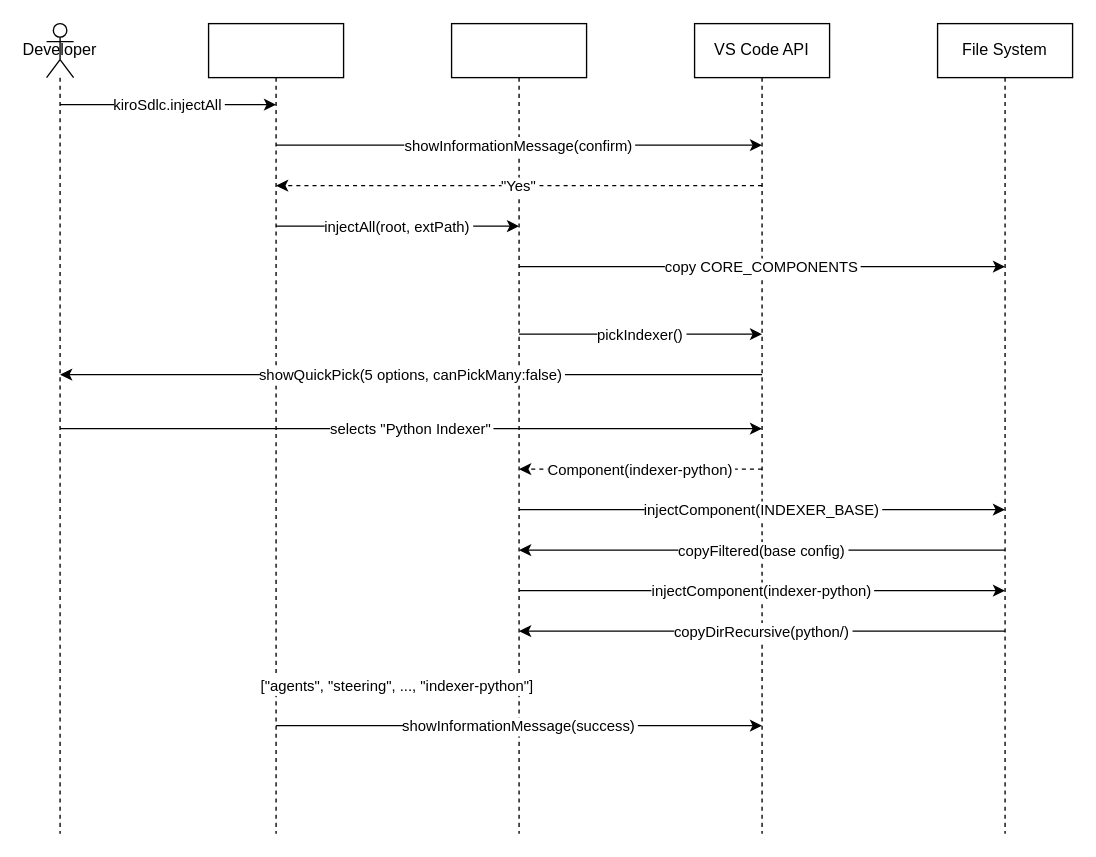
Image size: 1096x857. Some labels were removed from this diagram. The shapes that lost their labels are listed below. From the top down, each one's box as (x1, y1, x2, y2) in pixels, then its label:
(207, 22, 344, 834): extension.ts
(450, 22, 587, 834): injector.ts
